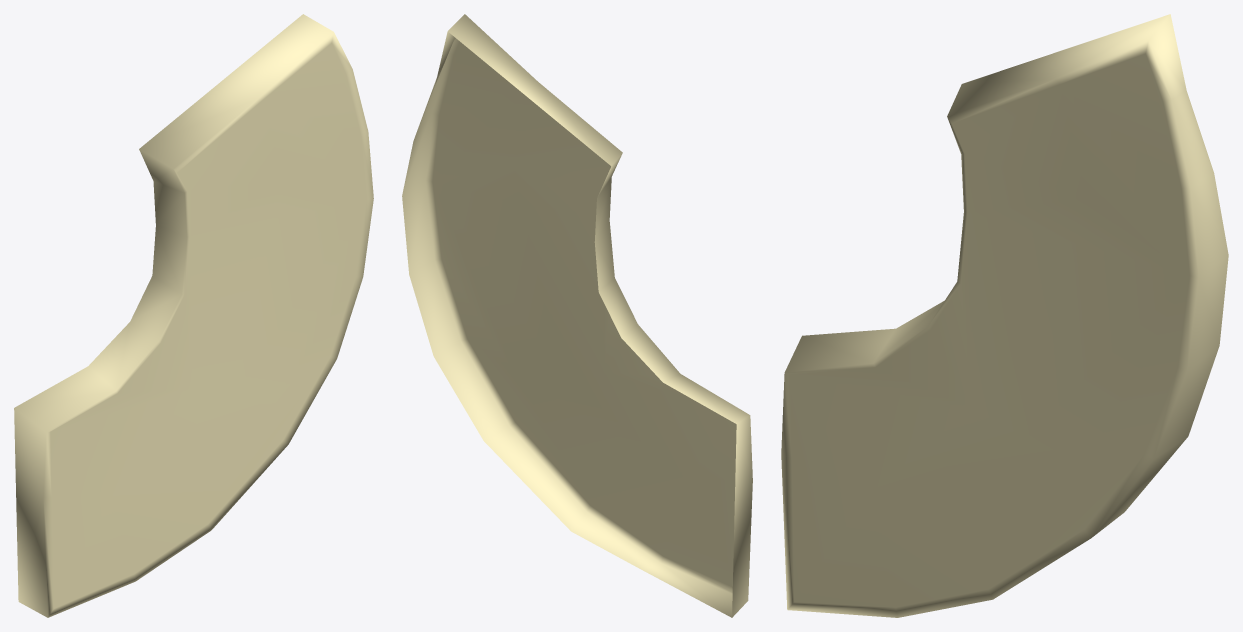
File: ui_radialMenu_3_right.glb
3 views of the same model, side by side, from view 1: azimuth 30°, elevation 25°; view 2: azimuth 150°, elevation 25°; view 3: azimuth 330°, elevation 25° (orthographic). The views are drawn at different scales.
Parts seen in each view (by area): view 1: main3_right; view 2: main3_right; view 3: main3_right.
Boxes of the visible parts, x1,y1,x2,y2 form: main3_right: (14, 14, 373, 617); main3_right: (402, 14, 752, 617); main3_right: (781, 14, 1228, 617).
Bounding box in the file's own units: 1.01 × 1.49 × 0.1337.
